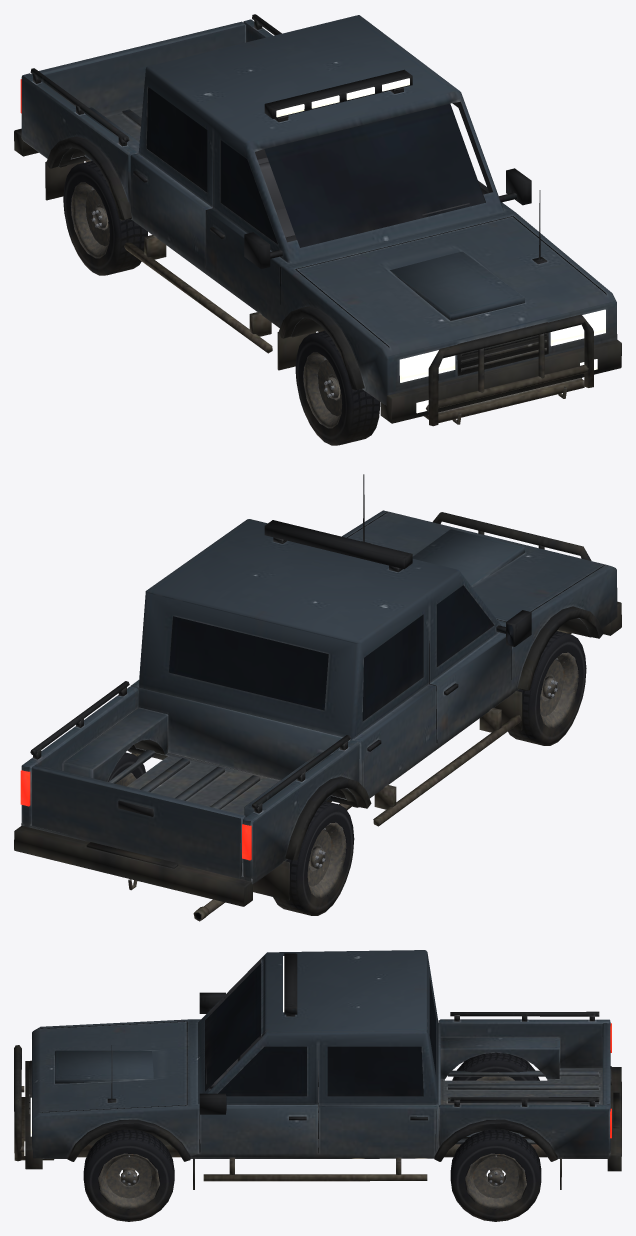
File: pickup.glb
3 renders of one model, top to bottom at view 1: azimuth 30°, elevation 25°; view 2: azimuth 150°, elevation 25°; view 3: azimuth 270°, elevation 25°, orthographic. The views are drawn at different scales.
Visible parts, largest first — view 1: body, wheel_fl, wheel_rl; view 2: body, wheel_rl, wheel_fl, wheel_rr; view 3: body, wheel_fr, wheel_rr, wheel_rl.
Boxes of the visible parts, x1,y1,x2,y2 form: body: (14,14,621,426); wheel_fl: (295,330,380,445); wheel_rl: (63,160,147,275); body: (14,474,621,921); wheel_rl: (273,801,354,915); wheel_fl: (508,631,586,745); wheel_rr: (108,752,145,786); body: (14,950,621,1189); wheel_fr: (83,1129,174,1221); wheel_rr: (450,1129,541,1221); wheel_rl: (452,1052,539,1080).
Size of the model in its own units: 2.15 by 1.89 by 5.3.
2 materials, 2 textured.
